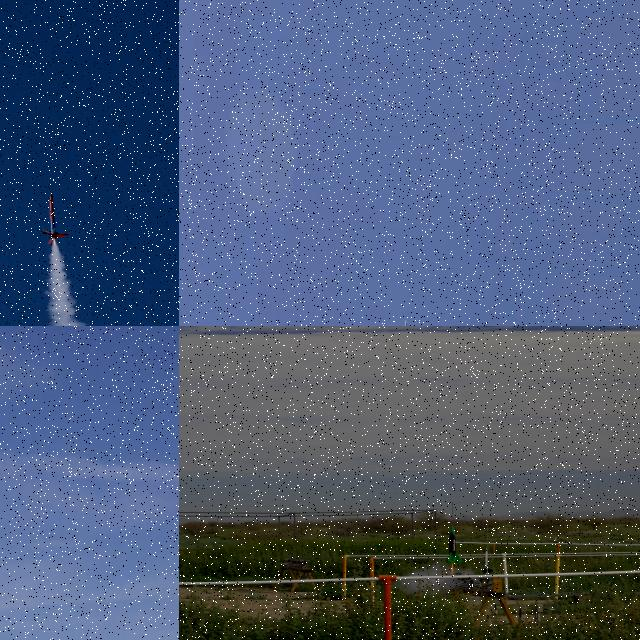Rocket: (42, 192, 70, 245), (445, 524, 463, 564), (482, 547, 494, 575), (404, 318, 407, 326)
